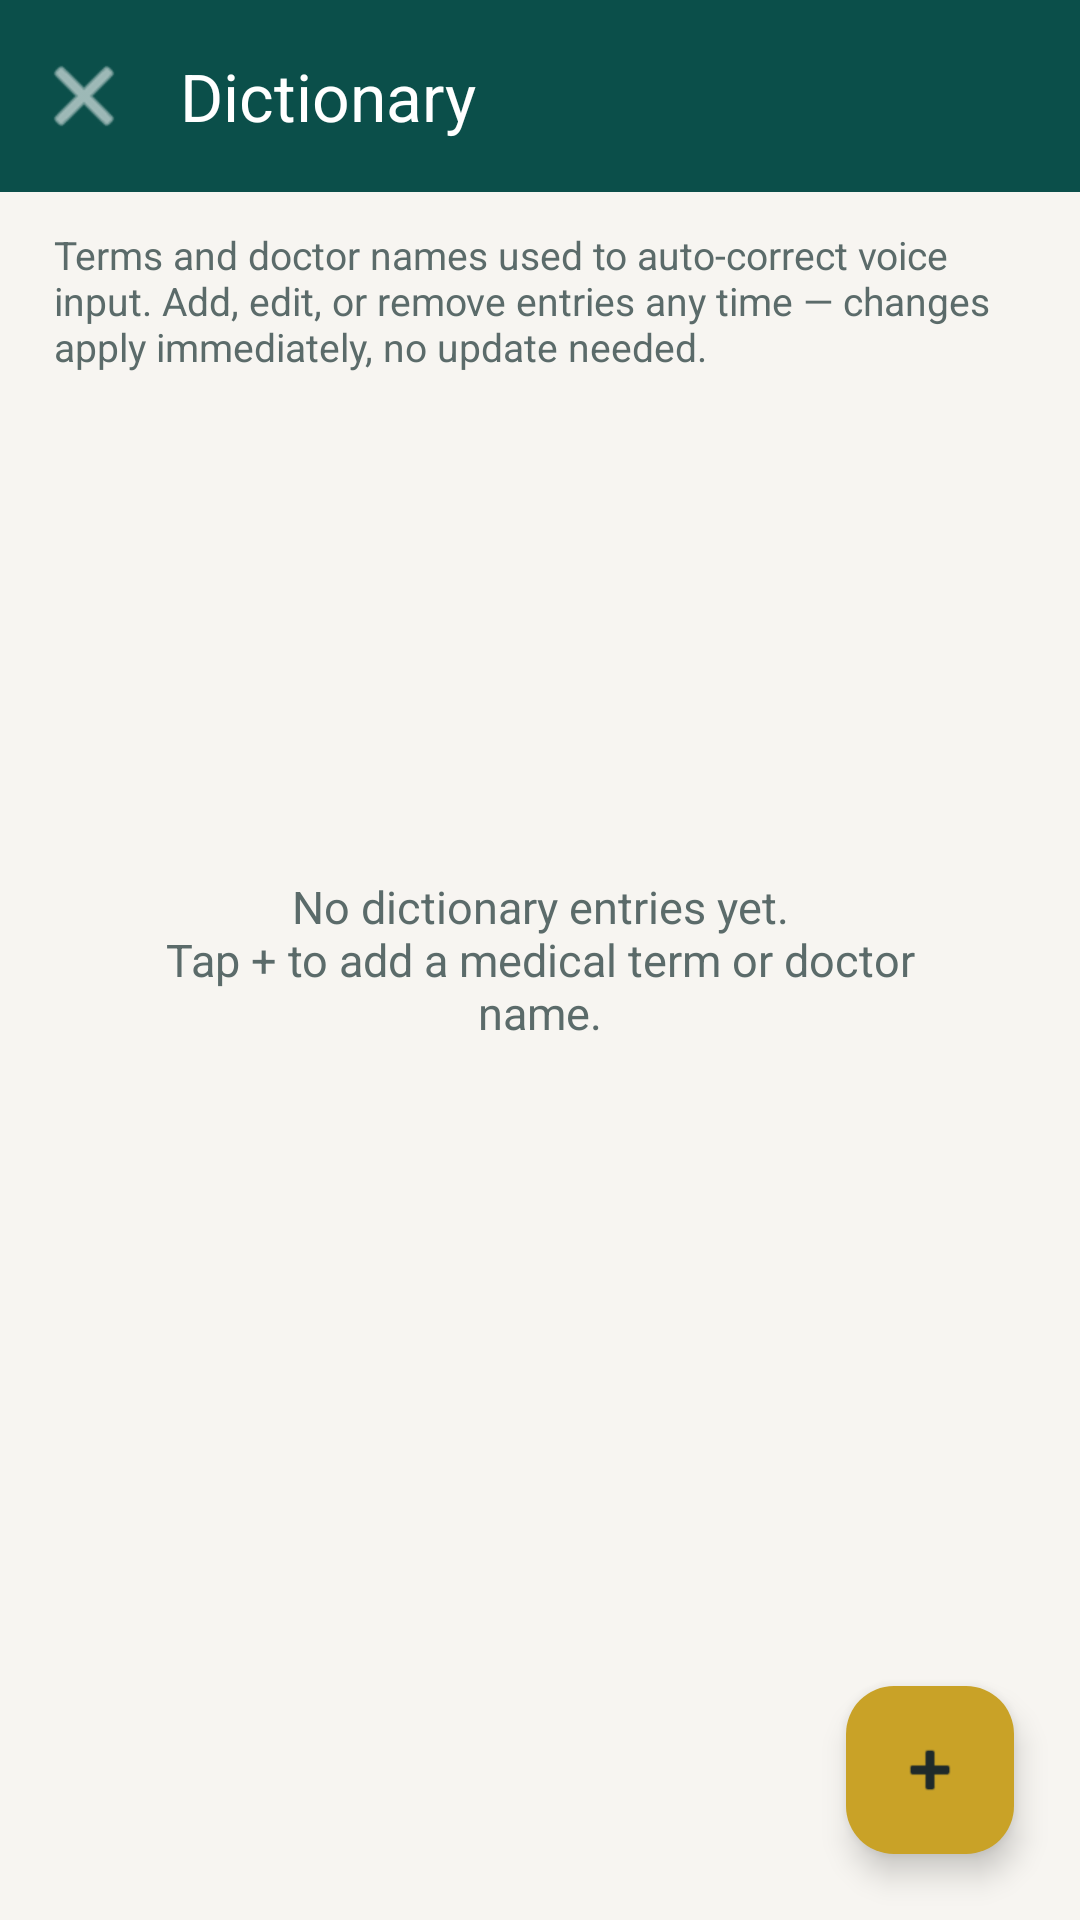

Where to tap for icons on this 1080*1920 app screen, as (x=x, y=y):
add: (x=930, y=1770)
